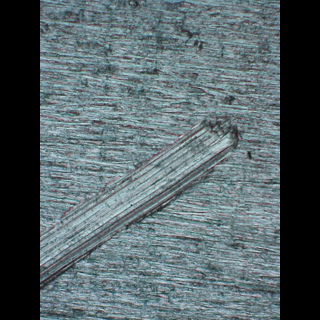d: (40, 115, 244, 294)
